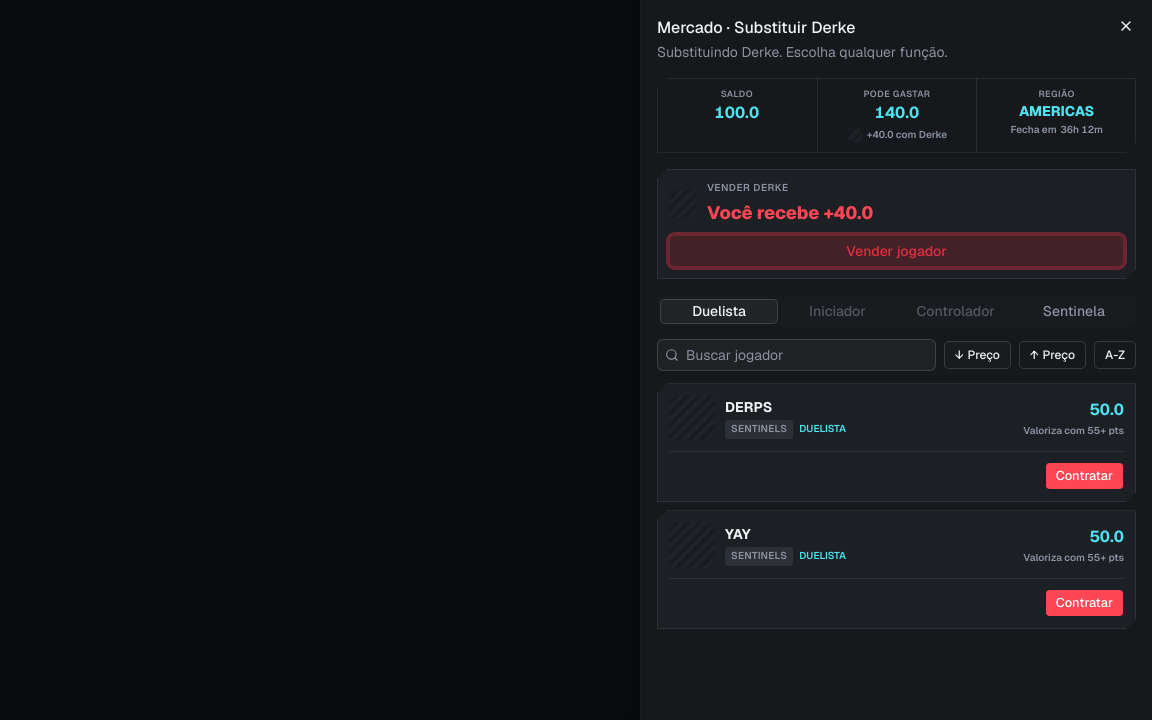
Test: MarketSheet — busca por nome › filtra as quatro funções conforme o usuário digita
The image size is (1152, 720).
In the search field named "buscar jogador pelo nome": (796, 355) [657,339,936,371], type "der"
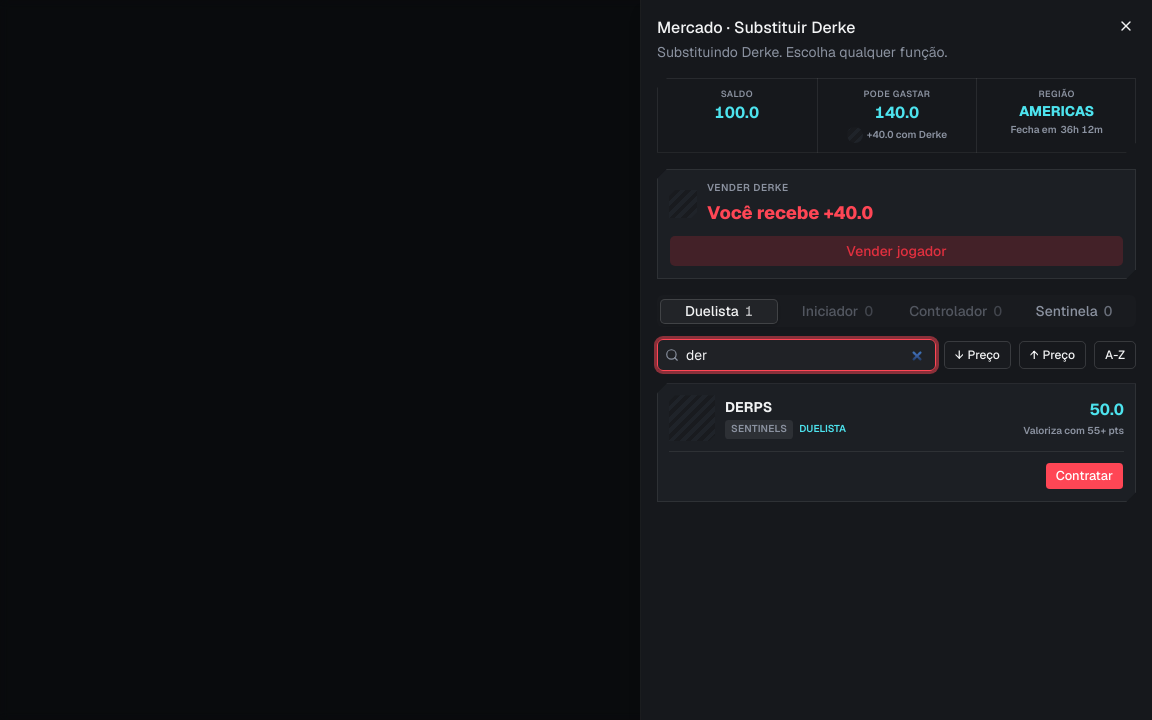
Expected: the text "Derps" is shown, [725,398,772,416]
Result: the text "yay" is gone
